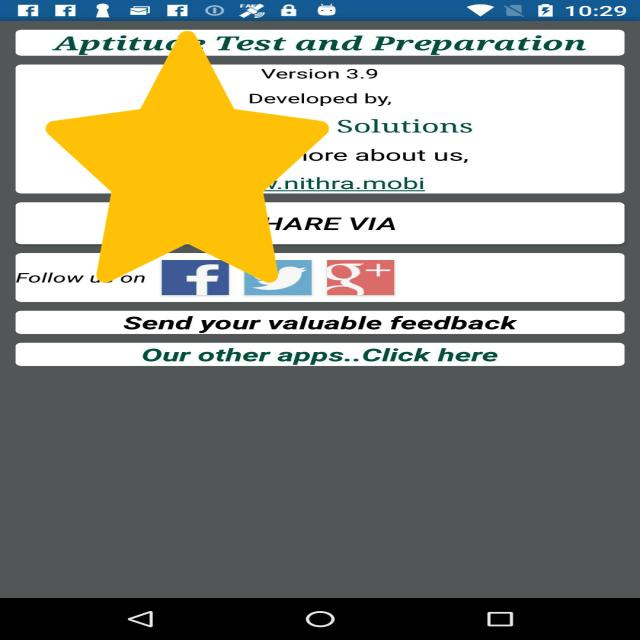forced continuity: (46, 31, 329, 283)
